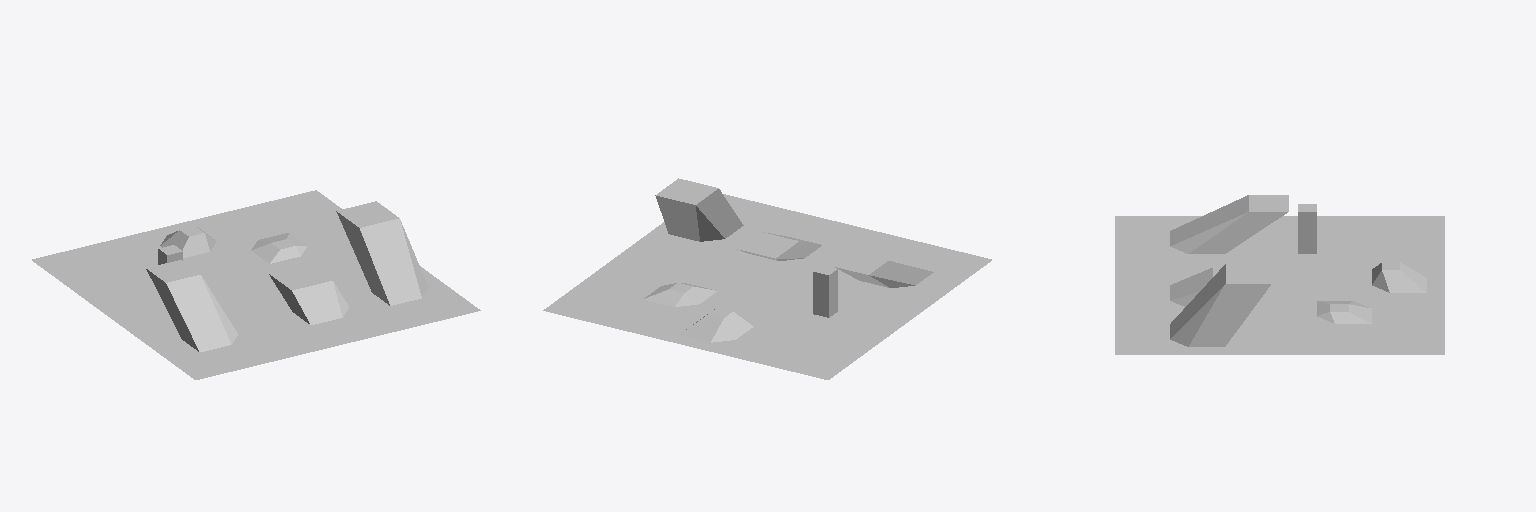
The model's file is teren.obj.
3 views of the same model, side by side, from view 1: azimuth 30°, elevation 25°; view 2: azimuth 150°, elevation 25°; view 3: azimuth 270°, elevation 25° (orthographic).
Visible parts, largest first — view 1: Grid_Grid.001; view 2: Grid_Grid.001; view 3: Grid_Grid.001.
Boxes of the visible parts, box(x1,y1,x2,y2) form: Grid_Grid.001: box(32, 190, 480, 379); Grid_Grid.001: box(543, 178, 991, 379); Grid_Grid.001: box(1115, 195, 1444, 354).
Bounding box in the file's own units: 15.45 × 3.03 × 15.45.